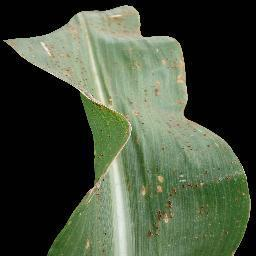Corn_Common_Rust: (145, 34, 192, 174), (5, 16, 74, 80), (192, 119, 222, 256), (45, 210, 111, 256), (140, 175, 178, 241), (75, 3, 144, 39), (69, 82, 120, 126), (88, 126, 145, 155), (222, 138, 244, 193), (90, 155, 111, 210), (121, 98, 145, 127), (127, 38, 145, 74), (74, 38, 88, 82), (179, 174, 194, 203), (76, 190, 90, 210), (123, 178, 133, 196)
